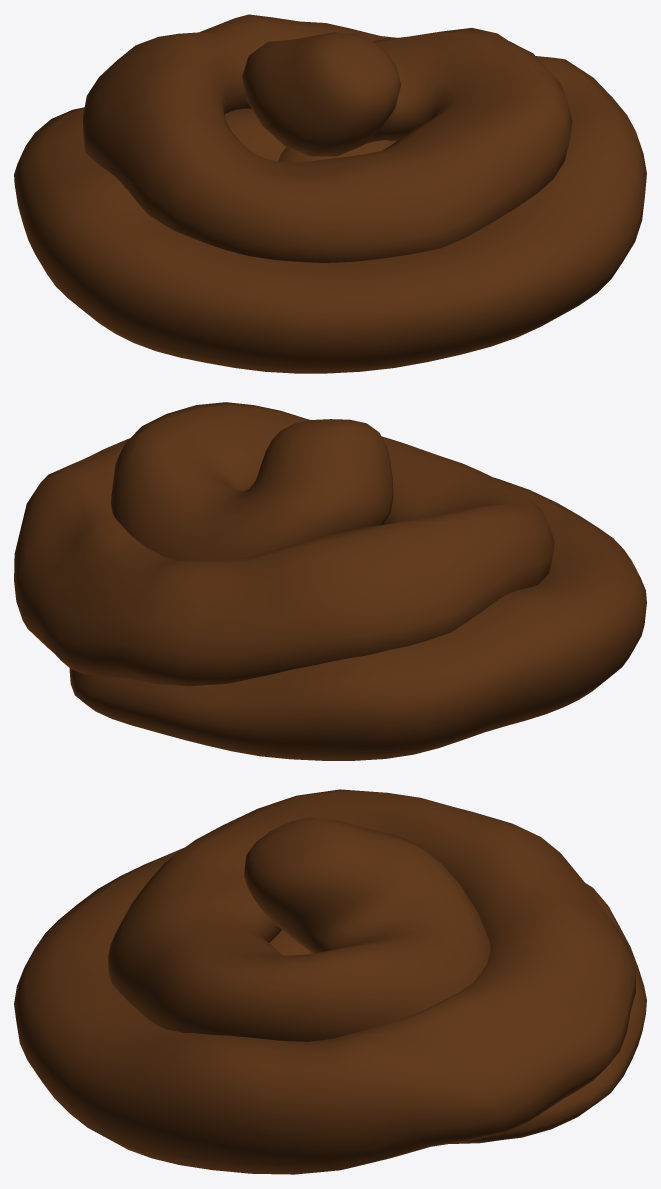
Rendered from Poop.fbx.
The picture shows the model from 3 angles, top to bottom: view 1: azimuth 30°, elevation 25°; view 2: azimuth 150°, elevation 25°; view 3: azimuth 270°, elevation 25°; orthographic projection. The views are drawn at different scales.
Visible parts, largest first — view 1: Poop; view 2: Poop; view 3: Poop.
Part boxes in pixels (left/top/right/bottom): Poop: left=14, top=14, right=646, bottom=373; Poop: left=14, top=402, right=646, bottom=760; Poop: left=14, top=789, right=646, bottom=1174.
Bounding box in the file's own units: 898 × 357 × 830.
